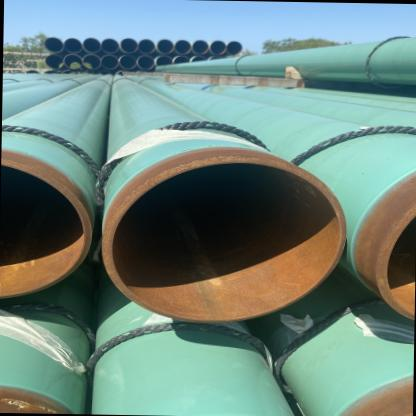clean: (190, 148, 240, 176)
